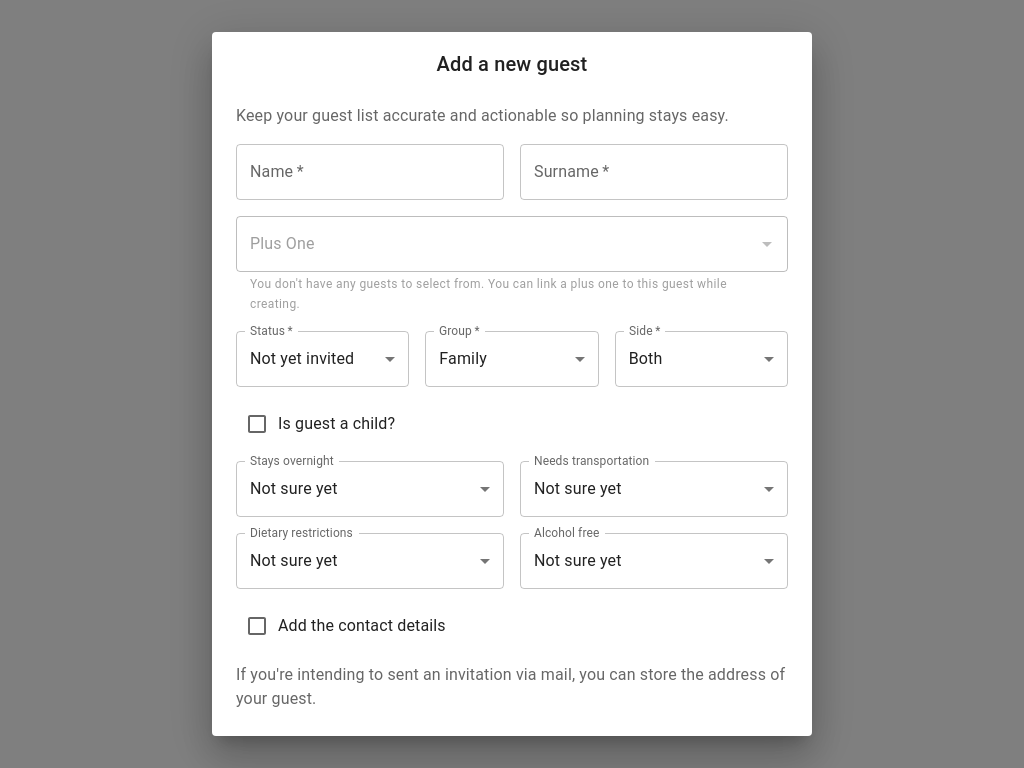
it: GuestForm › shows email and phone fields after checking the contact checkbox
What coordinates should you click on to do the following:
click the checkbox labelled "Add the contact details"
I would click on:
 (345, 626)
Its box is left=245, top=614, right=446, bottom=638.
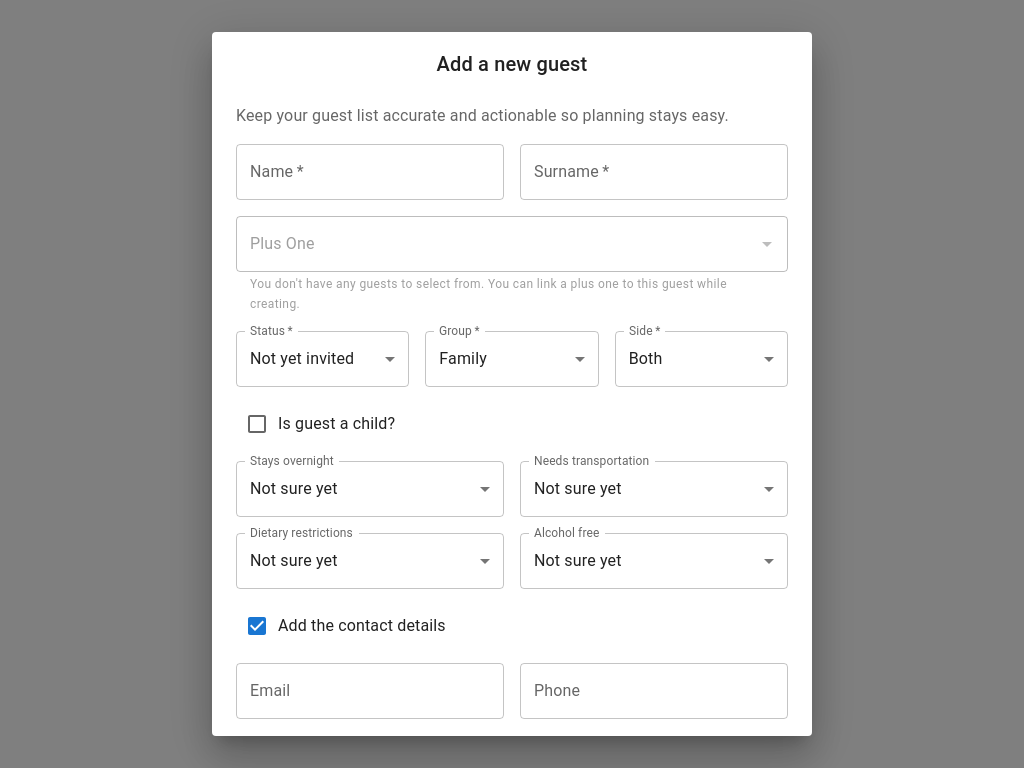
Expected: the field labelled "Email" is shown, left=236, top=663, right=504, bottom=719
Expected: the field labelled "Phone" is shown, left=520, top=663, right=788, bottom=719
